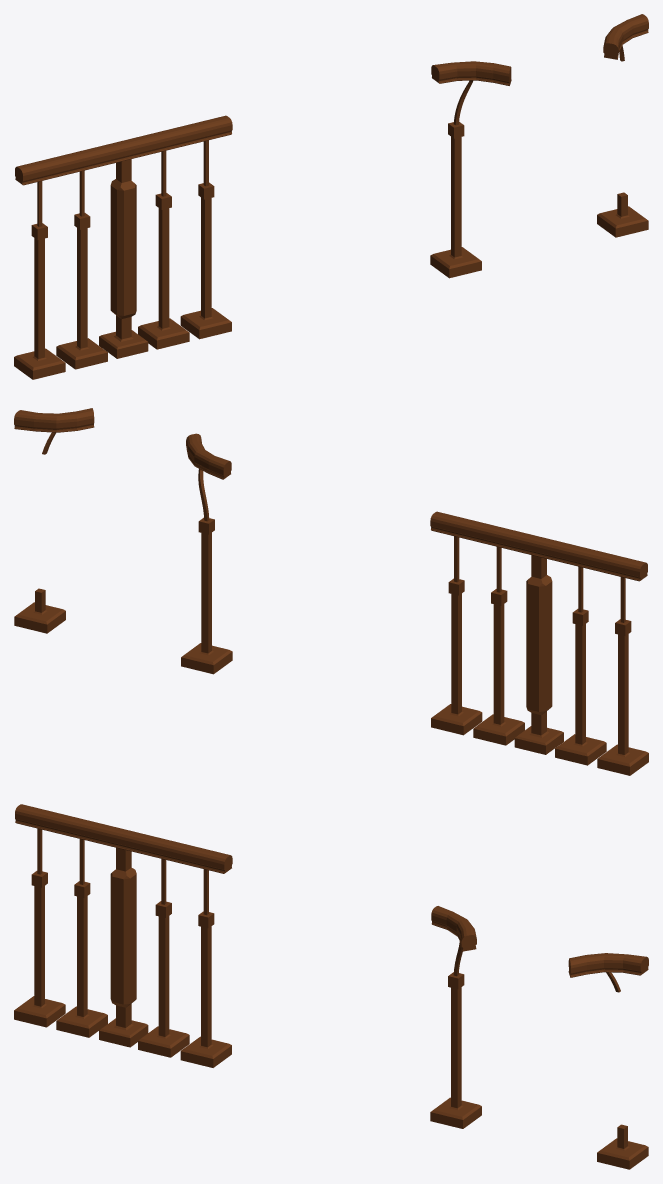
The model's file is Rambarde.fbx.
3 renders of one model, top to bottom at view 1: azimuth 30°, elevation 25°; view 2: azimuth 150°, elevation 25°; view 3: azimuth 330°, elevation 25°, orthographic.
Parts seen in each view (by area): view 1: Rambarde, Partie 1, Parti2; view 2: Rambarde, Partie 1, Parti2; view 3: Rambarde, Partie 1, Parti2.
Part boxes in pixels (left/top/right/bottom): Rambarde: left=14, top=115, right=232, bottom=379; Partie 1: left=430, top=61, right=511, bottom=278; Parti2: left=597, top=14, right=648, bottom=237; Rambarde: left=430, top=511, right=648, bottom=775; Partie 1: left=181, top=433, right=232, bottom=674; Parti2: left=14, top=408, right=94, bottom=633; Rambarde: left=14, top=804, right=232, bottom=1067; Partie 1: left=430, top=906, right=481, bottom=1128; Parti2: left=568, top=953, right=648, bottom=1169.
Size of the model in its own units: 1203 by 378 by 111.
